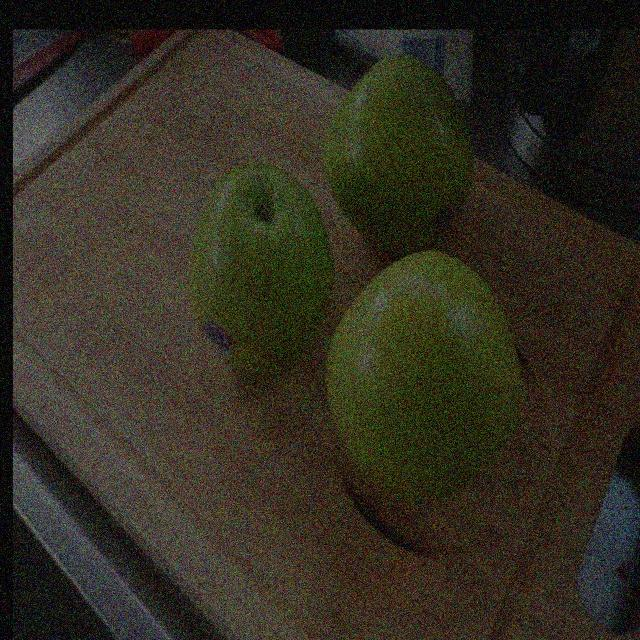green apple: (320, 251, 527, 512), (326, 51, 481, 260), (184, 160, 335, 370)
